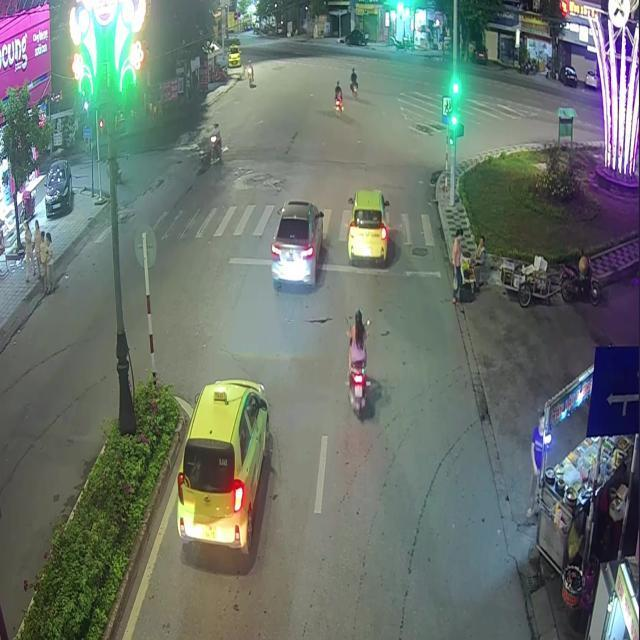car: (175, 378, 268, 556), (270, 200, 323, 287), (346, 189, 389, 266)
green_light: (450, 92, 457, 125)
motobike: (350, 367, 365, 410)
stop_line: (226, 256, 440, 277)
